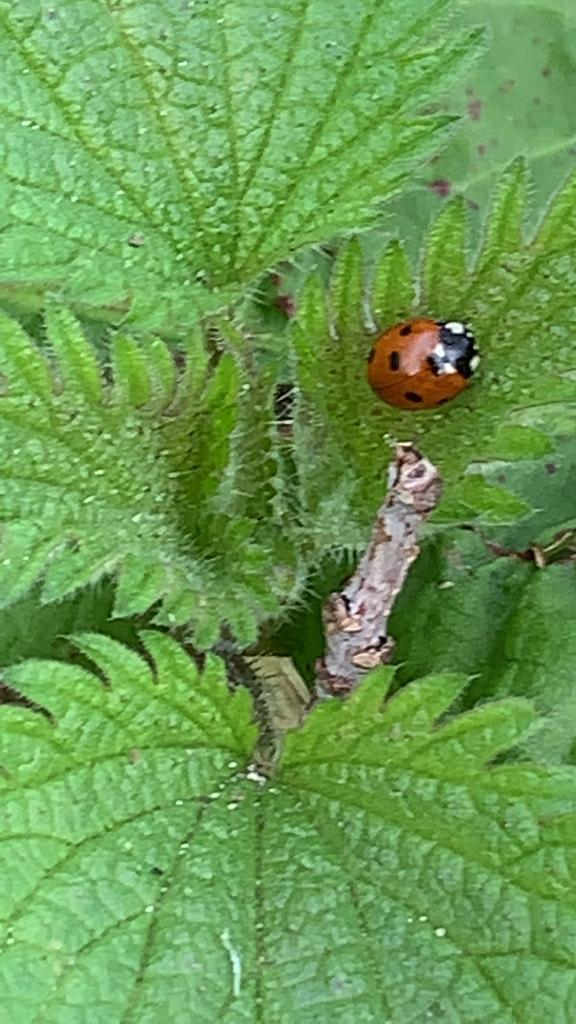ladybug: (363, 313, 488, 413)
